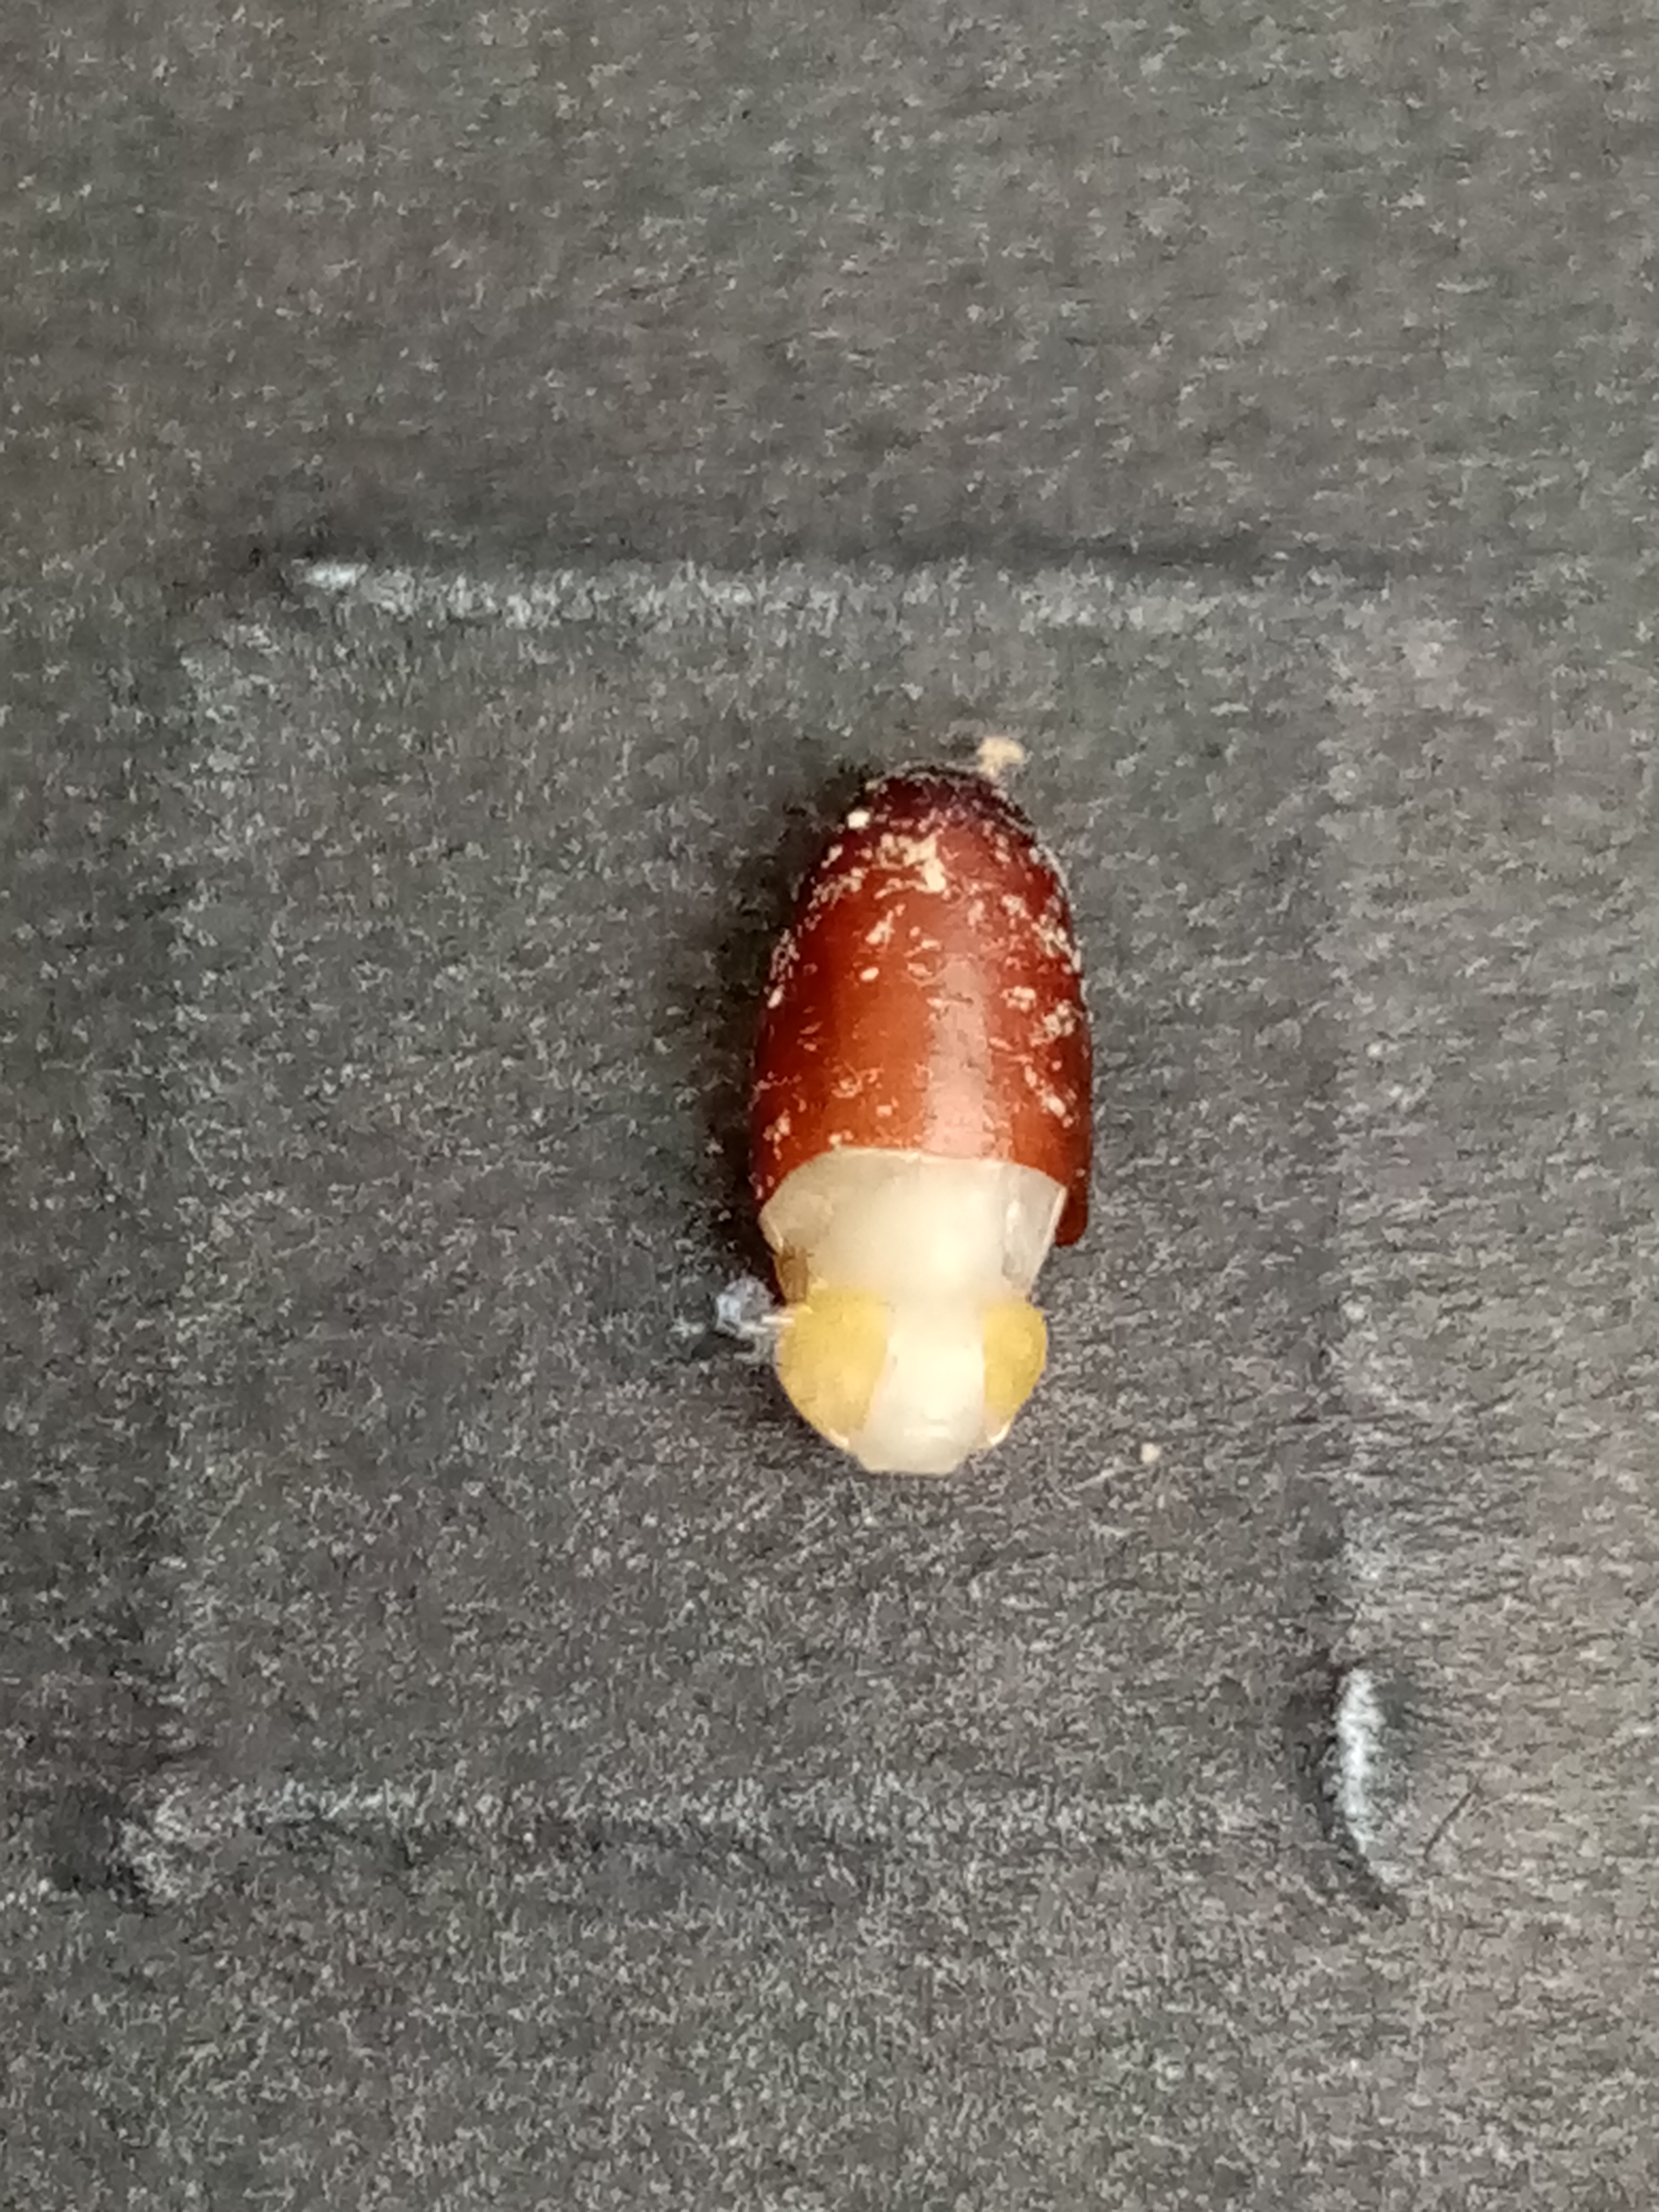pupa: (769, 1237, 1058, 1482)
